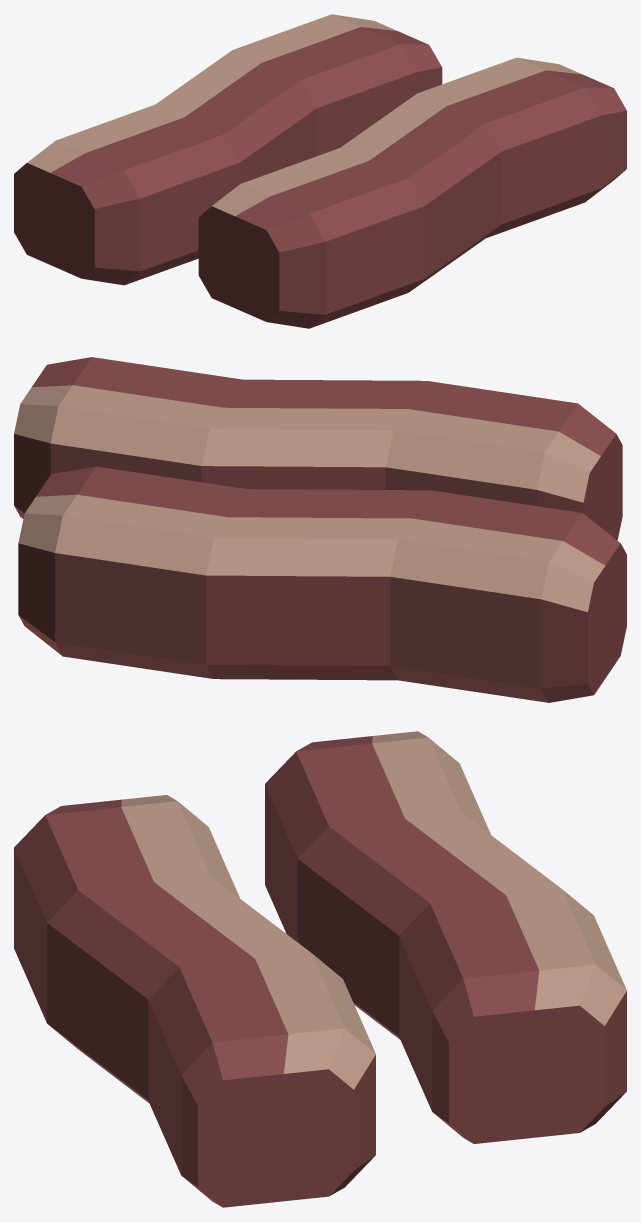
File: item_meat_human_c.obj
The picture shows the model from 3 angles, top to bottom: view 1: azimuth 30°, elevation 25°; view 2: azimuth 150°, elevation 25°; view 3: azimuth 270°, elevation 25°; orthographic projection. The views are drawn at different scales.
Size of the model in its own units: 0.9024 by 0.189 by 0.6596.
